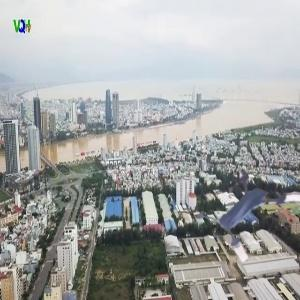drone: (202, 166, 298, 262)
